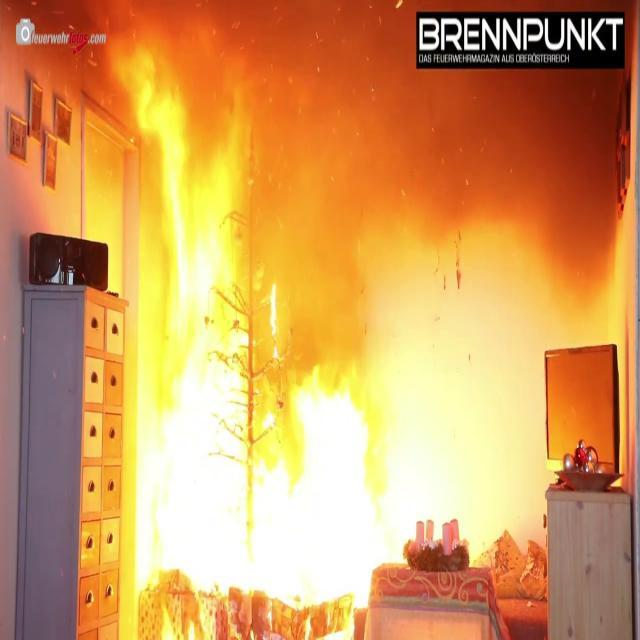Fire: (114, 22, 521, 606), (120, 18, 378, 606)
